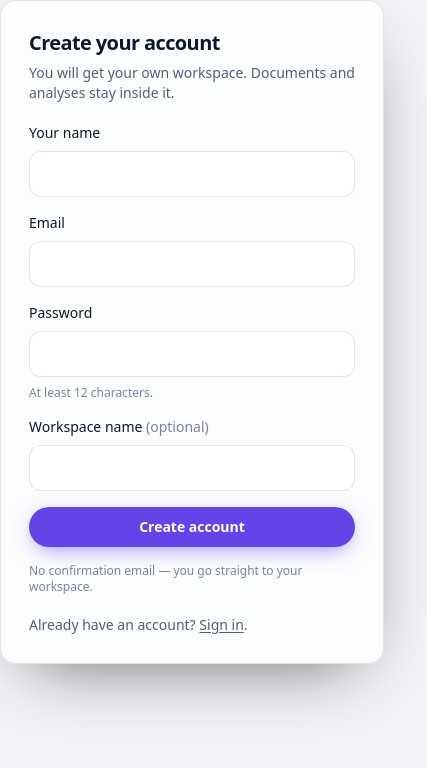
Test case: registration › says plainly when the address is already registered
The image size is (427, 768).
In the field labelled "Your name": (192, 174) x1=29 y1=151 x2=355 y2=197, type "New Reader"
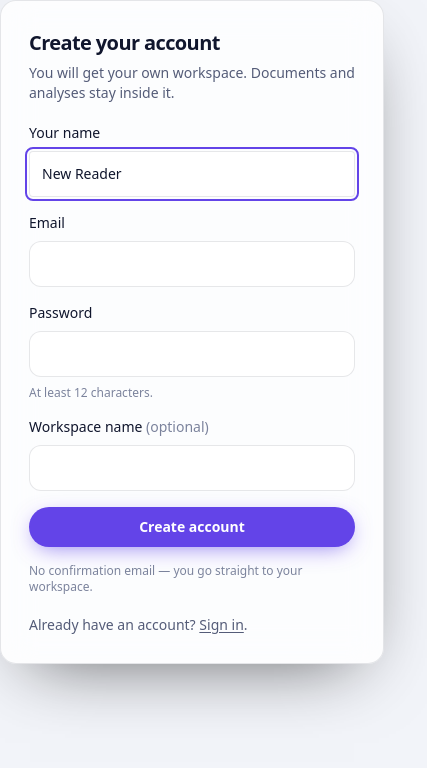
In the field labelled "Email": (192, 264) x1=29 y1=241 x2=355 y2=287, type "taken@example.invalid"
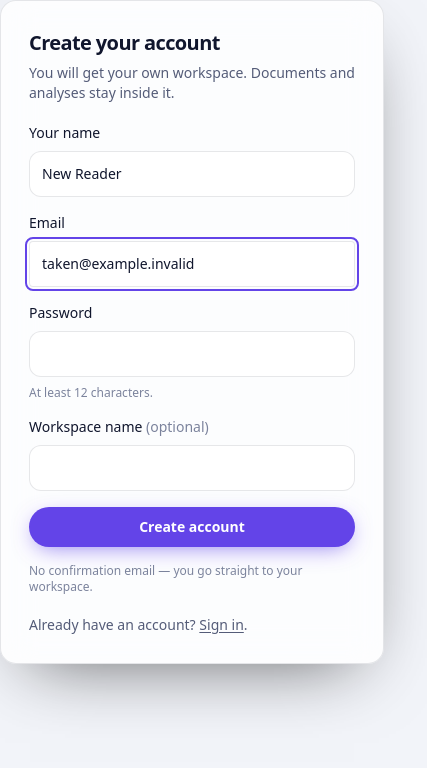
In the password field labelled "Password": (192, 354) x1=29 y1=331 x2=355 y2=377, type "correct horse battery staple"
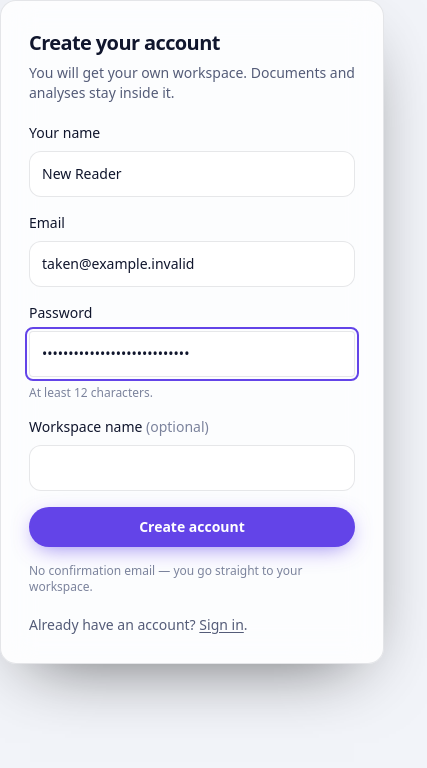
Click the button "Create account": click(192, 527) x1=29 y1=507 x2=355 y2=547
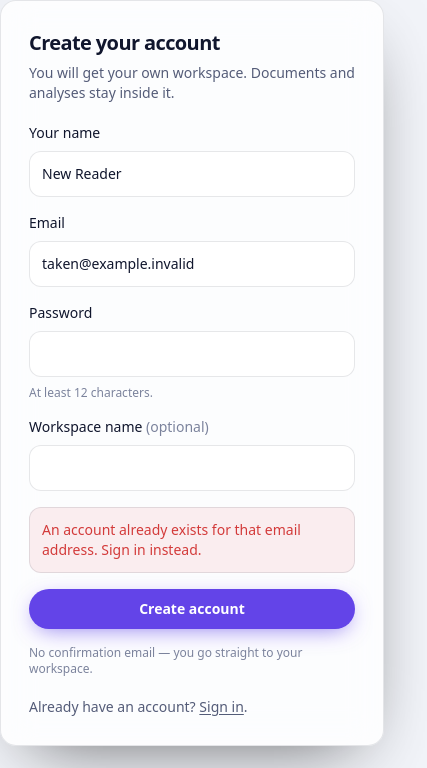
Now the message shows "already exists", box x1=42 y1=520 x2=301 y2=559
